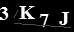3: (1, 6, 9, 21)
7: (37, 13, 50, 27)
J: (58, 11, 69, 26)
K: (17, 5, 36, 20)
